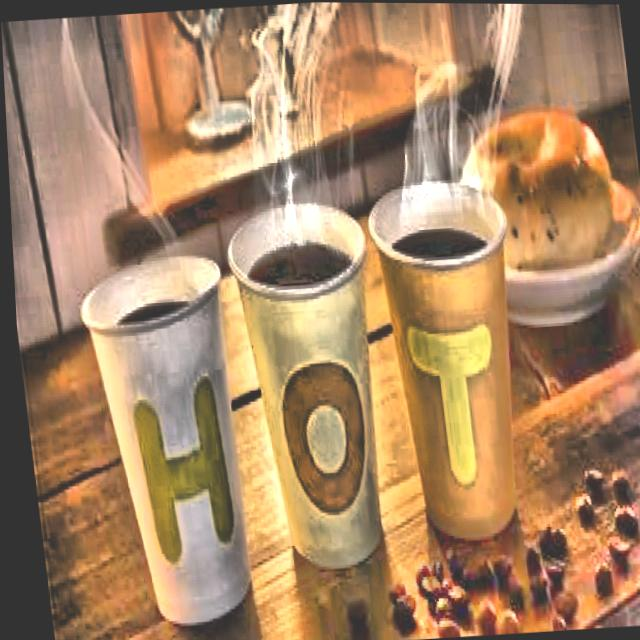Cup: (68, 247, 264, 629), (356, 145, 541, 547), (221, 166, 396, 580)
